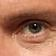eye: (30, 24, 42, 33)
